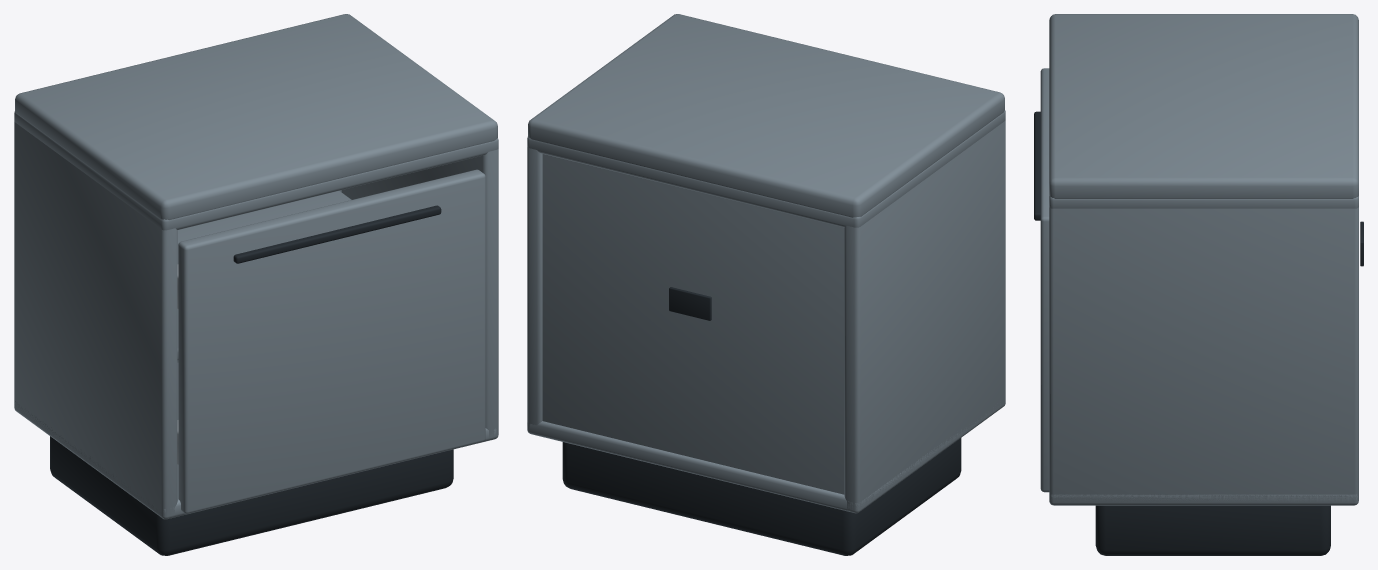
Rendered from nightstand.glb.
3 renders of one model, left to right at view 1: azimuth 30°, elevation 25°; view 2: azimuth 150°, elevation 25°; view 3: azimuth 270°, elevation 25°, orthographic. The views are drawn at different scales.
Visible parts, largest first — view 1: nightstand; view 2: nightstand; view 3: nightstand.
Part boxes in pixels (<box>): nightstand: <box>14,14,498,555</box>; nightstand: <box>527,14,1005,555</box>; nightstand: <box>1034,14,1363,555</box>.
Size of the model in its own units: 0.52 by 0.56 by 0.43.
